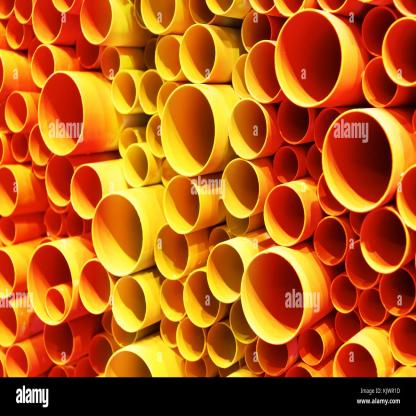PVC: (1, 1, 414, 377)
